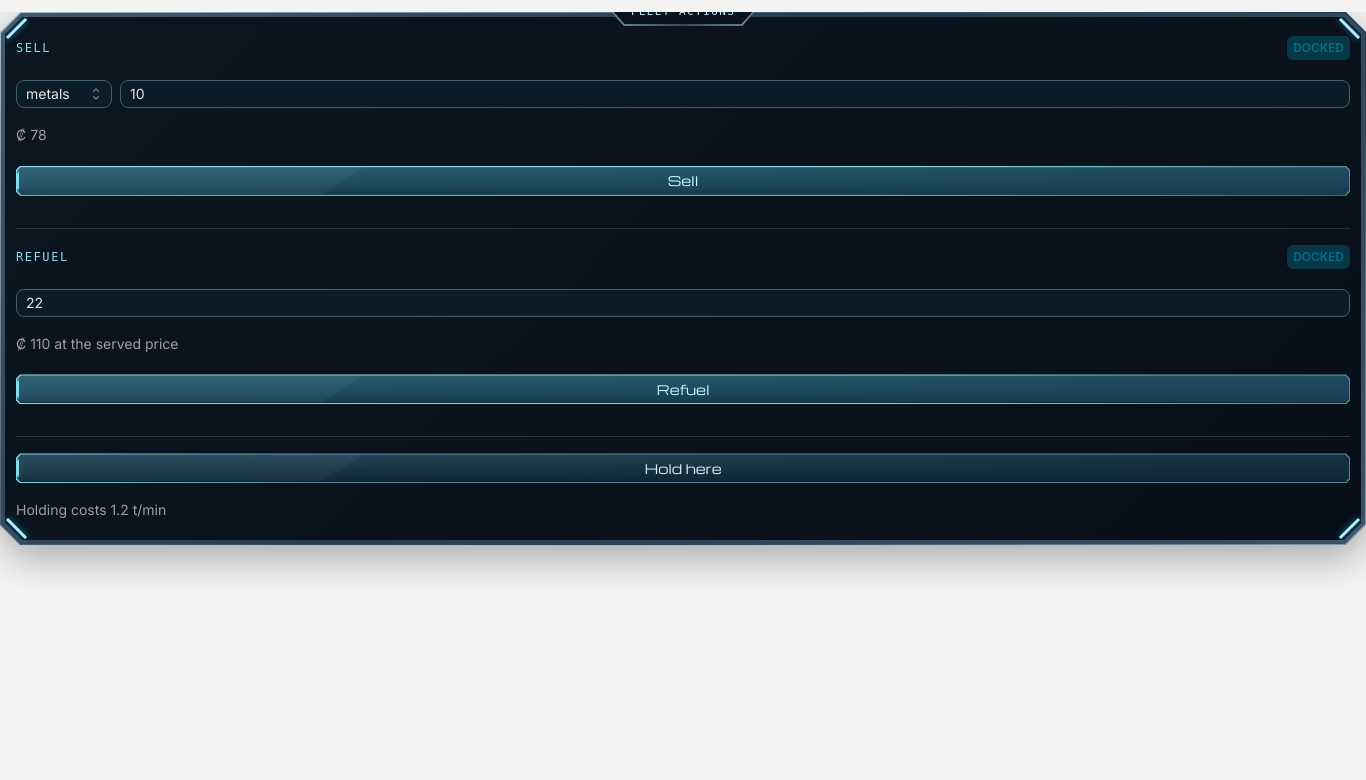
FleetActionsPanel — the sell offer › Scenario: Tonnage input clamps to held tonnage of the selected kind
The width and height of the screenshot is (1366, 780).
Replace the text in the number field with test id "sell-tons-input" with "999" at (735,94), box [120,80,1350,108]
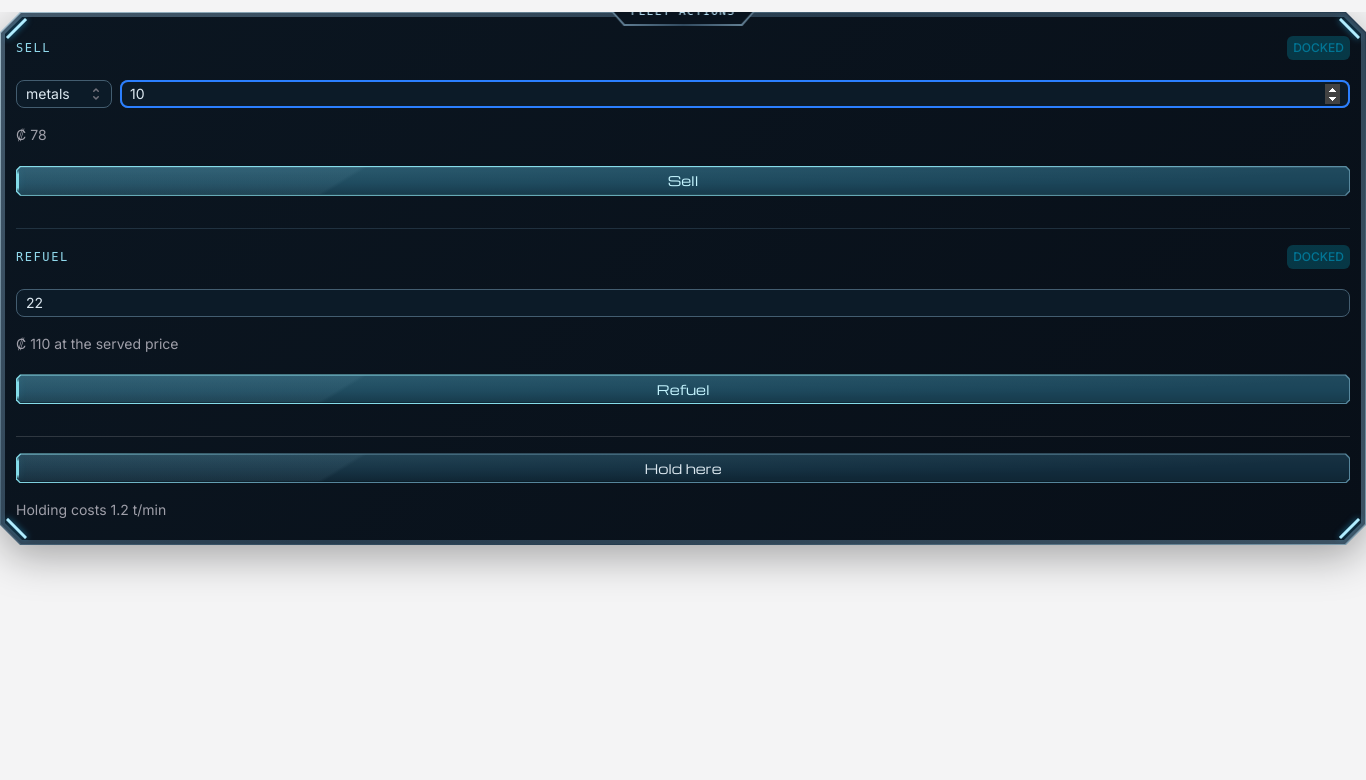
Expected: the number field with test id "sell-tons-input" holds "10", [120,80,1350,108]
